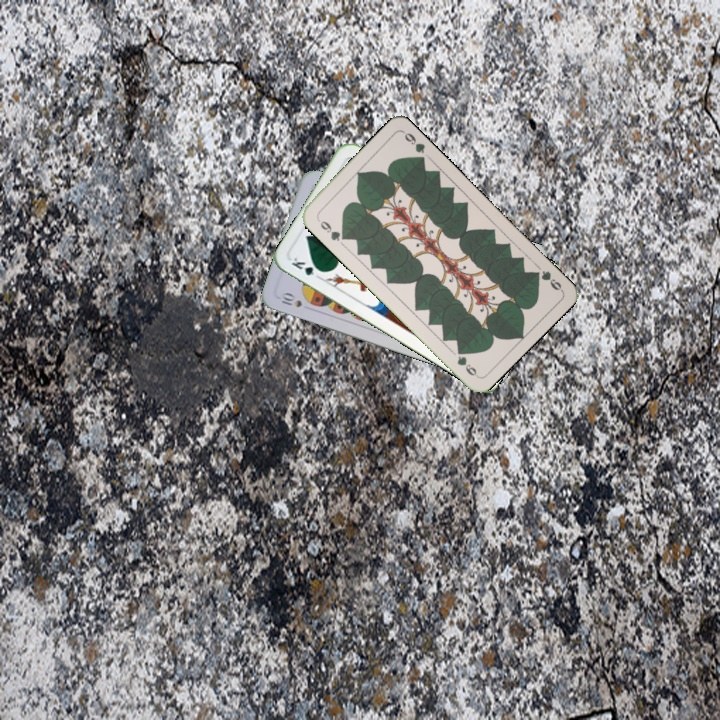G9: (313, 214, 349, 244), (528, 267, 565, 293)
GK: (287, 252, 326, 282)
S10: (277, 290, 304, 310)
